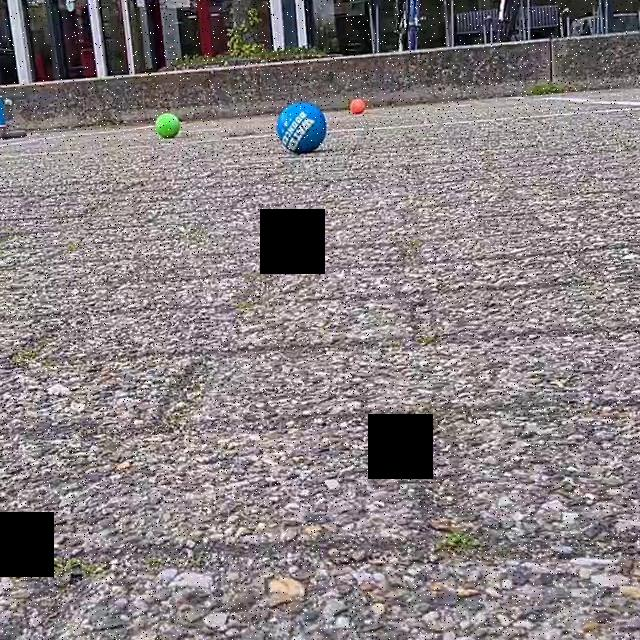ball: (152, 112, 182, 140)
